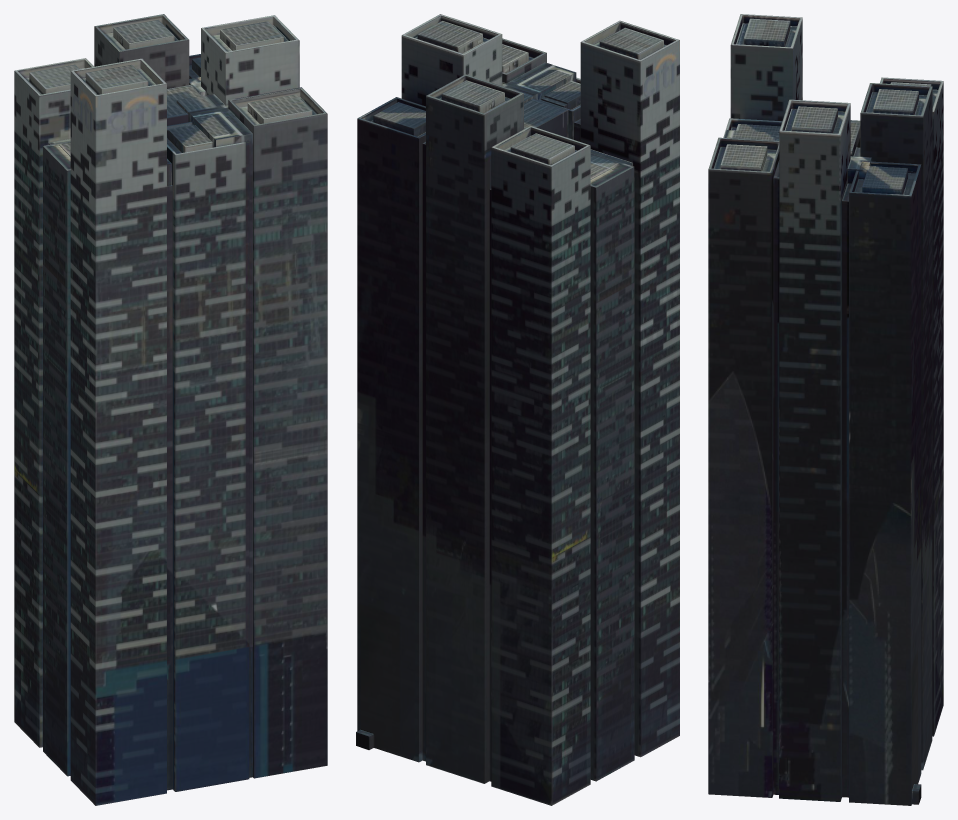
3 views of the same model, side by side, from view 1: azimuth 30°, elevation 25°; view 2: azimuth 150°, elevation 25°; view 3: azimuth 270°, elevation 25° (orthographic). The views are drawn at different scales.
Parts seen in each view (by area): view 1: 6_0.glb; view 2: 6_0.glb; view 3: 6_0.glb.
Boxes of the visible parts, box(x1,y1,x2,y2) form: 6_0.glb: box(14, 14, 327, 805); 6_0.glb: box(356, 14, 679, 805); 6_0.glb: box(708, 14, 943, 805).
Size of the model in its own units: 73.52 by 208 by 65.19.
Materials: 2 (2 with a texture image).
